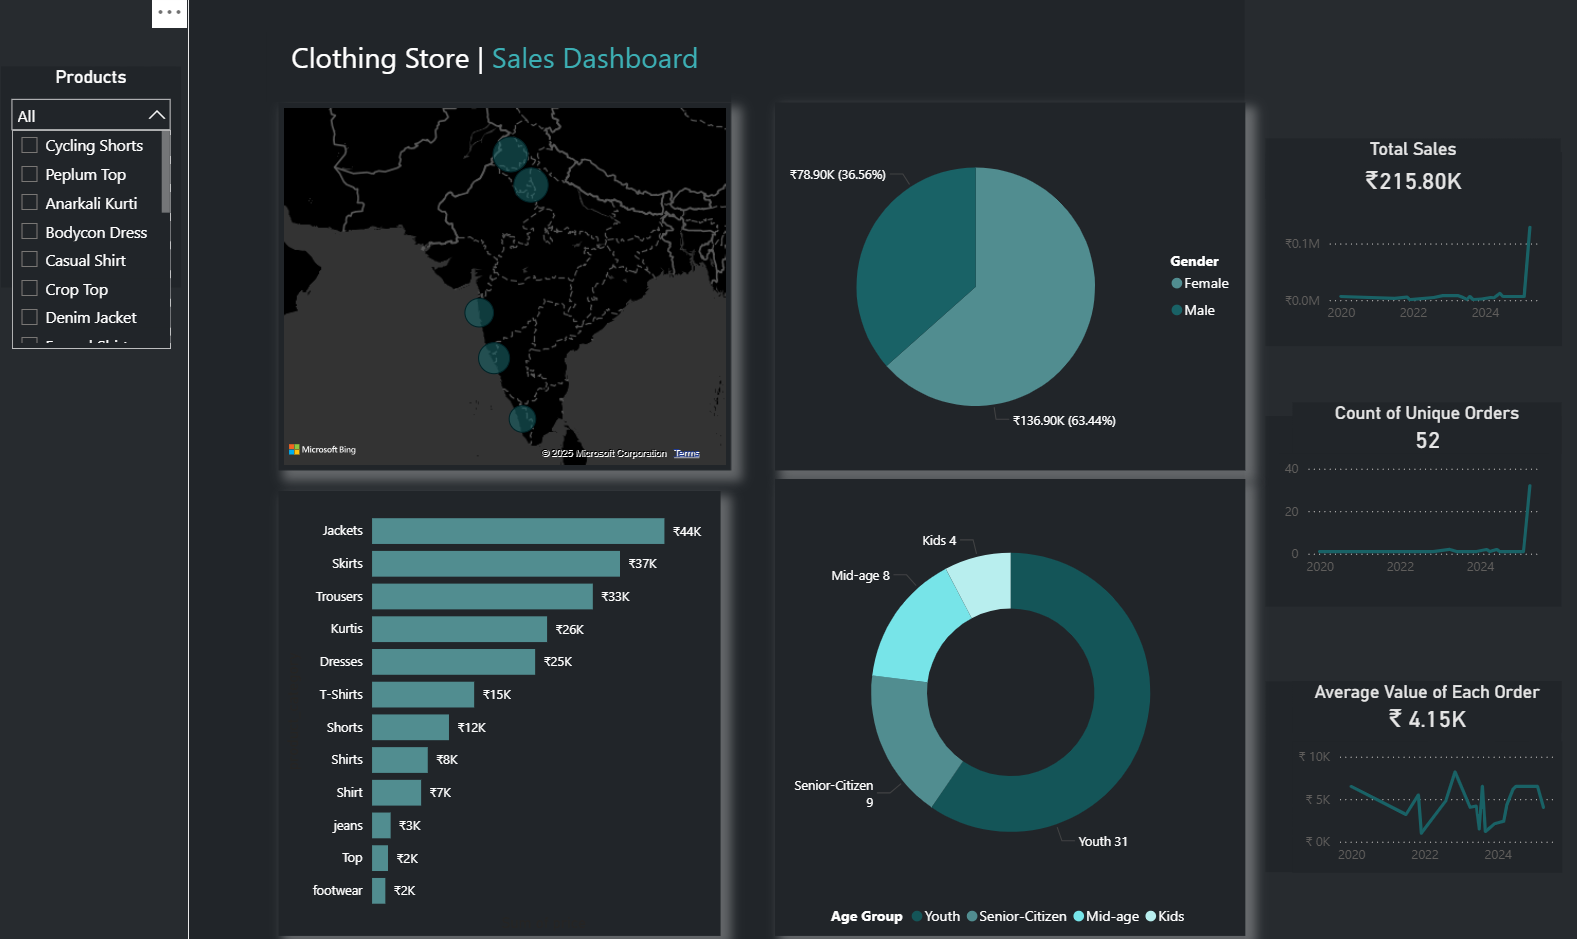

What the dashboard file says about the page in this screenshot:
{"tool":"powerbi","page":{"name":"Sales Overview","canvas":[1500,900],"ordinal":0},"visuals":[{"type":"shape","box":[0,0,182.9,900],"z":0},{"type":"shape","box":[1179.7,0,319.7,900.3],"z":1000},{"type":"shape","box":[1200,150,280.3,183.3],"z":2000},{"type":"shape","box":[1199.9,399.7,279.4,180.1],"z":3000},{"type":"shape","box":[1199.9,649.6,279.4,180.1],"z":4000},{"type":"card","title":"Total Sales","fields":{"Values":["Sum(store orders.price)"]},"box":[1200,137.9,278.8,57.6],"z":5000},{"type":"card","title":"Count of Unique Orders","fields":{"Values":["Count(store orders.order_id)"]},"box":[1225.1,387.1,254.1,48.8],"z":6000},{"type":"card","title":"Average Value of Each Order","fields":{"Values":["store customers.Average Sales Value per Order"]},"box":[1225.1,649.6,254.1,48.8],"z":7000},{"type":"lineChart","fields":{"Y":["Sum(store orders.price)"],"Category":["store orders.order_date.Variation.Date Hierarchy.Year","store orders.order_date.Variation.Date Hierarchy.Quarter","store orders.order_date.Variation.Date Hierarchy.Month"]},"box":[1212.1,195.5,254.5,124.2],"z":8000},{"type":"lineChart","fields":{"Y":["Count(store orders.order_id)"],"Category":["store orders.order_date.Variation.Date Hierarchy.Year","store orders.order_date.Variation.Date Hierarchy.Quarter","store orders.order_date.Variation.Date Hierarchy.Month"]},"box":[1212.1,434.8,254.5,124.2],"z":9000},{"type":"lineChart","fields":{"Category":["store orders.order_date.Variation.Date Hierarchy.Year","store orders.order_date.Variation.Date Hierarchy.Quarter","store orders.order_date.Variation.Date Hierarchy.Month"],"Y":["store customers.Average Sales Value per Order"]},"box":[1224.2,706.1,254.5,124.2],"z":10000},{"type":"map","title":"Total Sales by location","fields":{"Category":["store customers.location"],"Size":["Sum(store orders.price)"]},"box":[267.1,102.9,427.1,347.1],"z":11000},{"type":"pieChart","title":"Total Sales by gender","fields":{"Y":["Sum(store orders.price)"],"Category":["store customers.gender"]},"box":[735.7,102.9,444.3,347.1],"z":12000},{"type":"clusteredBarChart","fields":{"Category":["store orders.product_category"],"Y":["Sum(store orders.price)"]},"box":[267.1,470,417.1,420],"z":13000},{"type":"donutChart","fields":{"Category":["store customers.Age Group"],"Y":["Count(store orders.order_id)"]},"box":[735.7,458.6,444.3,431.4],"z":14000},{"type":"slicer","title":"Products","fields":{"Values":["store orders.product_name"]},"box":[5.7,70,170,208.6],"z":15000},{"type":"textbox","box":[255.7,37.1,438.6,65.7],"z":16000}]}

Visuals, with their boxes on the page's 1500x900 design canvas (x1, y1, x2, y2). These are canvas units, not pixel positions in the 1577x939 screenshot, which may show the page scaled, cropped or inside an application window:
shape: x1=0 y1=0 x2=183 y2=900
shape: x1=1180 y1=0 x2=1499 y2=900
shape: x1=1200 y1=150 x2=1480 y2=333
shape: x1=1200 y1=400 x2=1479 y2=580
shape: x1=1200 y1=650 x2=1479 y2=830
"Total Sales" card: x1=1200 y1=138 x2=1479 y2=196
"Count of Unique Orders" card: x1=1225 y1=387 x2=1479 y2=436
"Average Value of Each Order" card: x1=1225 y1=650 x2=1479 y2=698
lineChart - Sum(store orders.price) x store orders.order_date.Variation.Date Hierarchy.Year: x1=1212 y1=196 x2=1467 y2=320
lineChart - Count(store orders.order_id) x store orders.order_date.Variation.Date Hierarchy.Year: x1=1212 y1=435 x2=1467 y2=559
lineChart - store orders.order_date.Variation.Date Hierarchy.Year x store orders.order_date.Variation.Date Hierarchy.Quarter: x1=1224 y1=706 x2=1479 y2=830
"Total Sales by location" map: x1=267 y1=103 x2=694 y2=450
"Total Sales by gender" pieChart: x1=736 y1=103 x2=1180 y2=450
clusteredBarChart - store orders.product_category x Sum(store orders.price): x1=267 y1=470 x2=684 y2=890
donutChart - store customers.Age Group x Count(store orders.order_id): x1=736 y1=459 x2=1180 y2=890
"Products" slicer: x1=6 y1=70 x2=176 y2=279
textbox: x1=256 y1=37 x2=694 y2=103
